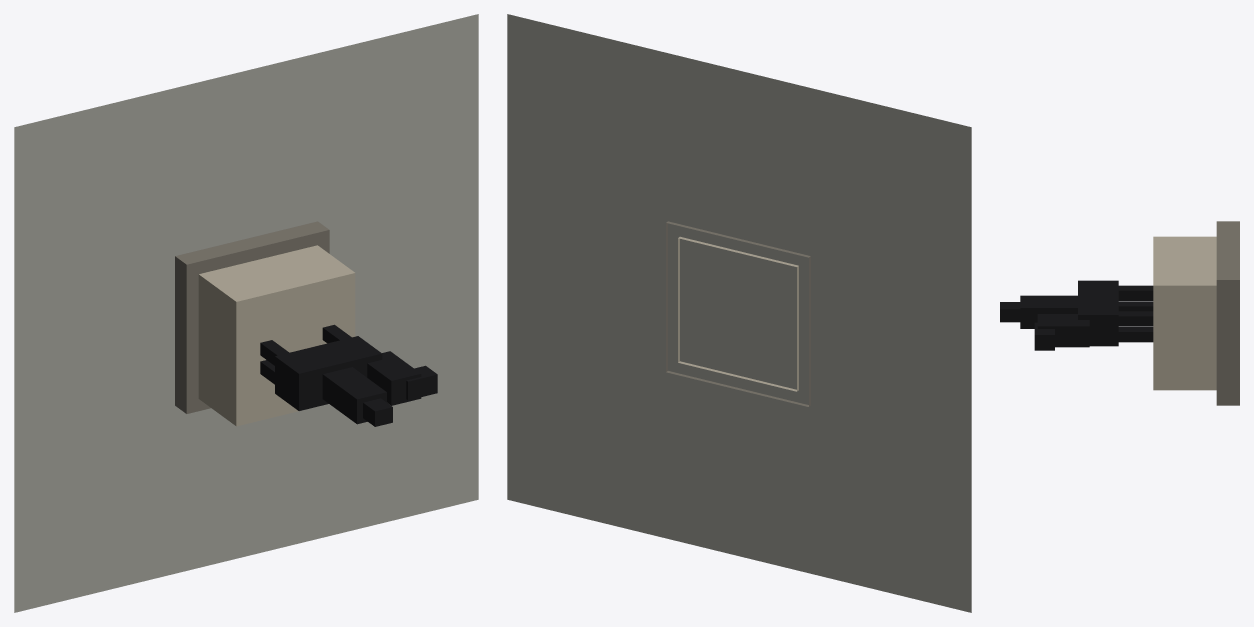
File: complete.glb
3 views of the same model, side by side, from view 1: azimuth 30°, elevation 25°; view 2: azimuth 150°, elevation 25°; view 3: azimuth 270°, elevation 25° (orthographic). The views are drawn at different scales.
Parts seen in each view (by area): view 1: done; view 2: done; view 3: done.
Boxes of the visible parts, bbox=[...] form: done: bbox=[14, 14, 478, 612]; done: bbox=[507, 14, 971, 612]; done: bbox=[1000, 221, 1239, 405].
Bounding box in the file's own units: 15.6 × 15.6 × 8.3.
